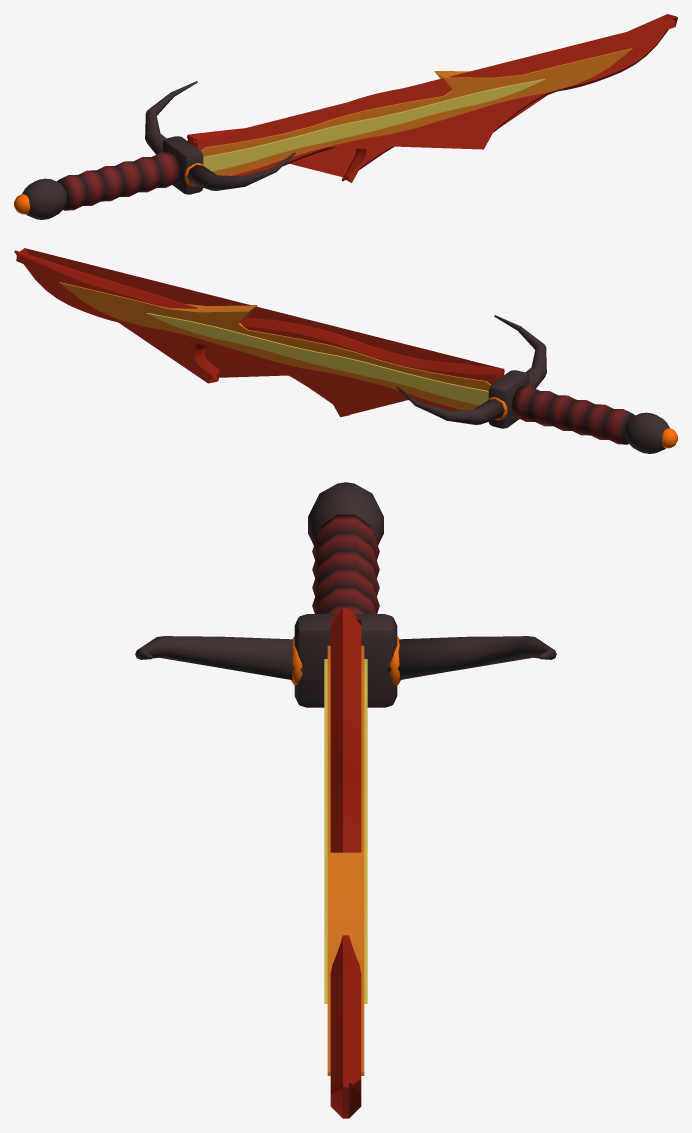
The model's file is sword_fire.glb.
The picture shows the model from 3 angles, top to bottom: view 1: azimuth 30°, elevation 25°; view 2: azimuth 150°, elevation 25°; view 3: azimuth 270°, elevation 25°; orthographic projection. The views are drawn at different scales.
Parts seen in each view (by area): view 1: sword_fire; view 2: sword_fire; view 3: sword_fire.
Boxes of the visible parts, x1,y1,x2,y2 form: sword_fire: (14, 14, 677, 219); sword_fire: (14, 248, 677, 453); sword_fire: (135, 482, 556, 1118).
Size of the model in its own units: 1.49 by 0.1905 by 0.411.
